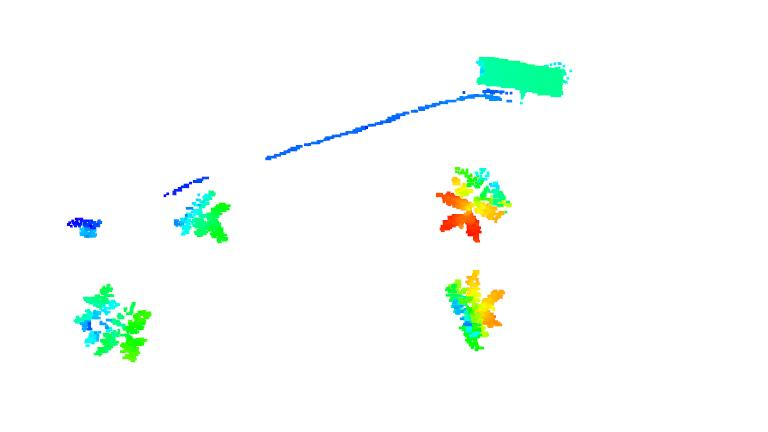chickpea: (73, 284, 147, 361), (437, 166, 509, 240), (445, 270, 502, 353), (175, 191, 230, 243)
